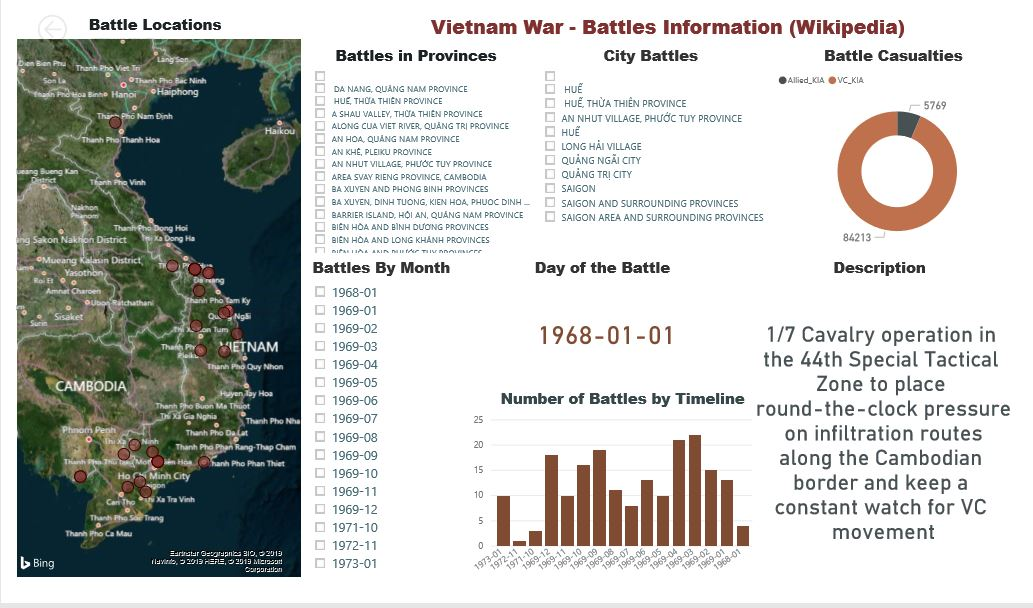

This screenshot's page, from the dashboard's own definition file:
{"tool":"powerbi","page":{"name":"Page 1","canvas":[1280,720],"ordinal":0},"visuals":[{"type":"basicShape","box":[0,0,100,40],"z":0},{"type":"card","title":"Day of the Battle","fields":{"Values":["Min(df (2).Date)"]},"box":[574.2,307.9,357,166.6],"z":1000},{"type":"card","title":"Description","fields":{"Values":["Min(df (2).Description)"]},"box":[931.2,307.9,346.6,412.1],"z":2000},{"type":"clusteredColumnChart","title":"Number of Battles by Timeline","fields":{"Category":["df (2).Month"],"Y":["CountNonNull(df (2).Location)"]},"box":[574.2,474.5,368.9,245.5],"z":3000},{"type":"map","title":"Battle Locations","fields":{"Category":["df (2).Place","df (2).City"]},"box":[0,0,370.6,720],"z":4000},{"type":"gauge","title":"Battles By Month","box":[370.4,307.9,203.8,412.1],"z":5000},{"type":"slicer","title":"Battles in Provinces","fields":{"Values":["df (2).Region"]},"box":[370.6,39.3,291.9,269.2],"z":6000},{"type":"slicer","title":"City Battles","fields":{"Values":["df (2).City"]},"box":[662.5,39.3,304,269.2],"z":7000},{"type":"donutChart","title":"Battle Casualties","fields":{"Y":["Sum(df (2).Allied_KIA)","Sum(df (2).VC_KIA)"]},"box":[967,39,312,269],"z":8000},{"type":"textbox","title":"Vietnam War - Battles Information (Wikipedia)","box":[393.3,0,886.4,39.3],"z":9000}]}

Visuals, with their boxes in screenshot pixels (x1, y1, x2, y2):
basicShape: x1=13 y1=27 x2=90 y2=58
"Day of the Battle" card: x1=454 y1=263 x2=728 y2=391
"Description" card: x1=728 y1=263 x2=994 y2=580
"Number of Battles by Timeline" clusteredColumnChart: x1=454 y1=391 x2=737 y2=580
"Battle Locations" map: x1=13 y1=27 x2=298 y2=580
"Battles By Month" gauge: x1=298 y1=263 x2=454 y2=580
"Battles in Provinces" slicer: x1=298 y1=57 x2=522 y2=264
"City Battles" slicer: x1=522 y1=57 x2=755 y2=264
"Battle Casualties" donutChart: x1=756 y1=57 x2=995 y2=263
"Vietnam War - Battles Information (Wikipedia)" textbox: x1=315 y1=27 x2=996 y2=57
